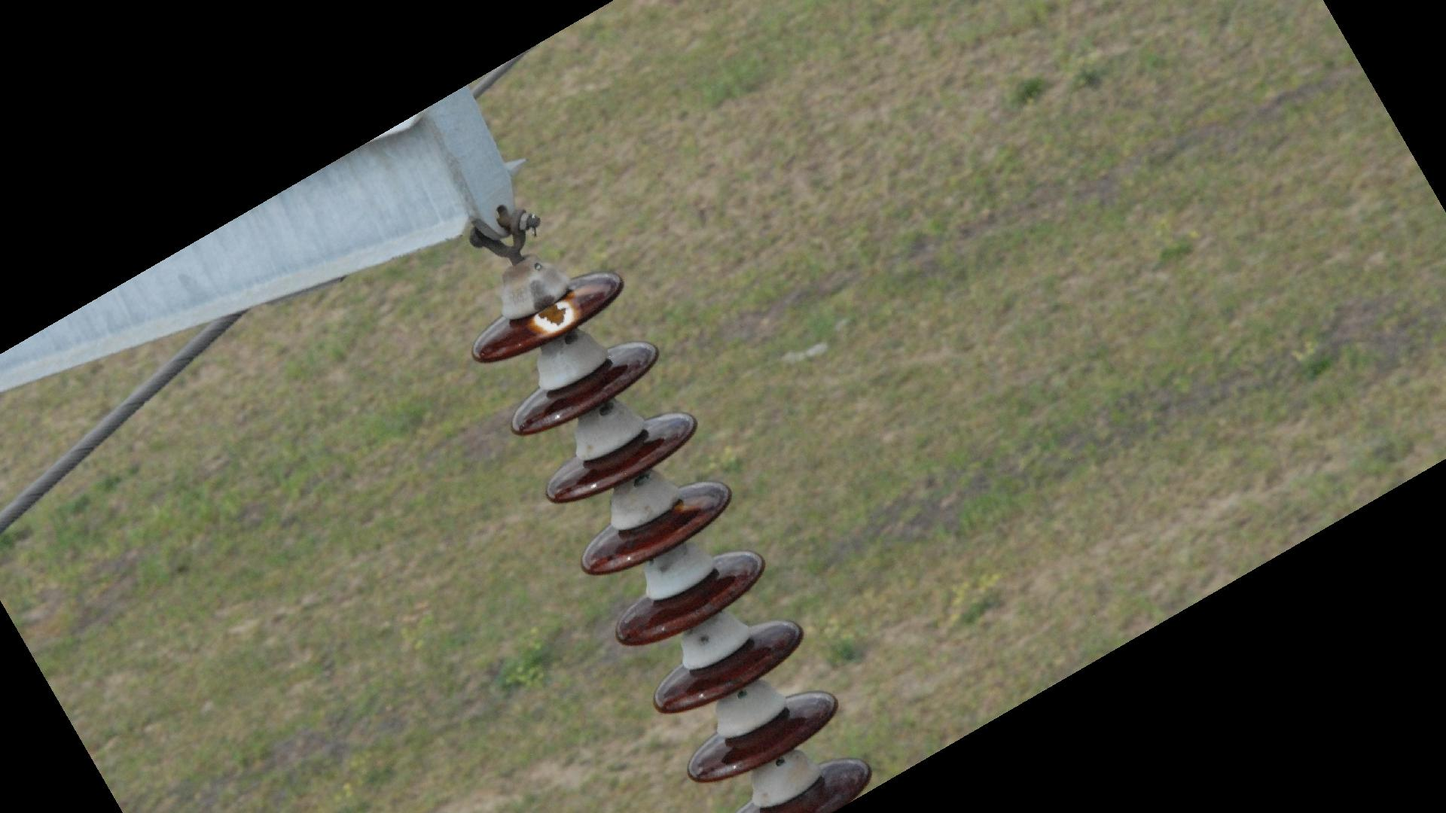insulator: (465, 265, 879, 813)
insulator_flashover: (530, 296, 581, 337)
